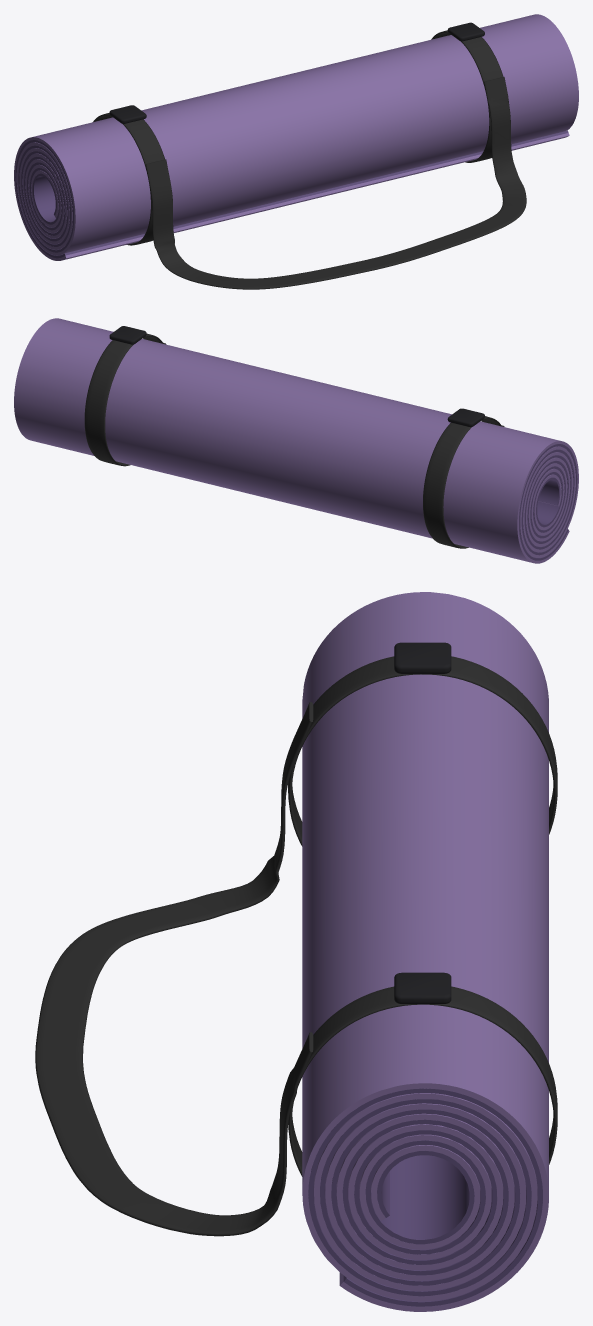
File: flexgrip-yoga-mat.glb
3 renders of one model, top to bottom at view 1: azimuth 30°, elevation 25°; view 2: azimuth 150°, elevation 25°; view 3: azimuth 270°, elevation 25°, orthographic. The views are drawn at different scales.
Visible parts, largest first — view 1: mat-top, mat-strap, mat-underside, mat-loop (×2), mat-buckle (×2); view 2: mat-top, mat-loop (×2), mat-underside, mat-buckle (×2); view 3: mat-top, mat-underside, mat-strap, mat-loop (×2), mat-buckle (×2).
Part boxes in pixels (<box>): mat-top: <box>14,14,578,260</box>; mat-strap: <box>145,77,526,289</box>; mat-underside: <box>15,130,568,258</box>; mat-loop (×2): <box>93,30,508,245</box>; mat-buckle (×2): <box>109,22,484,123</box>; mat-top: <box>14,318,578,563</box>; mat-loop (×2): <box>84,333,501,548</box>; mat-underside: <box>519,444,577,560</box>; mat-buckle (×2): <box>109,326,484,427</box>; mat-top: <box>302,592,548,1311</box>; mat-underside: <box>308,1088,542,1306</box>; mat-strap: <box>35,702,313,1236</box>; mat-loop (×2): <box>288,656,557,1176</box>; mat-buckle (×2): <box>394,642,451,1003</box>.
Bounding box in the file's own units: 0.61 × 0.1462 × 0.2742.
